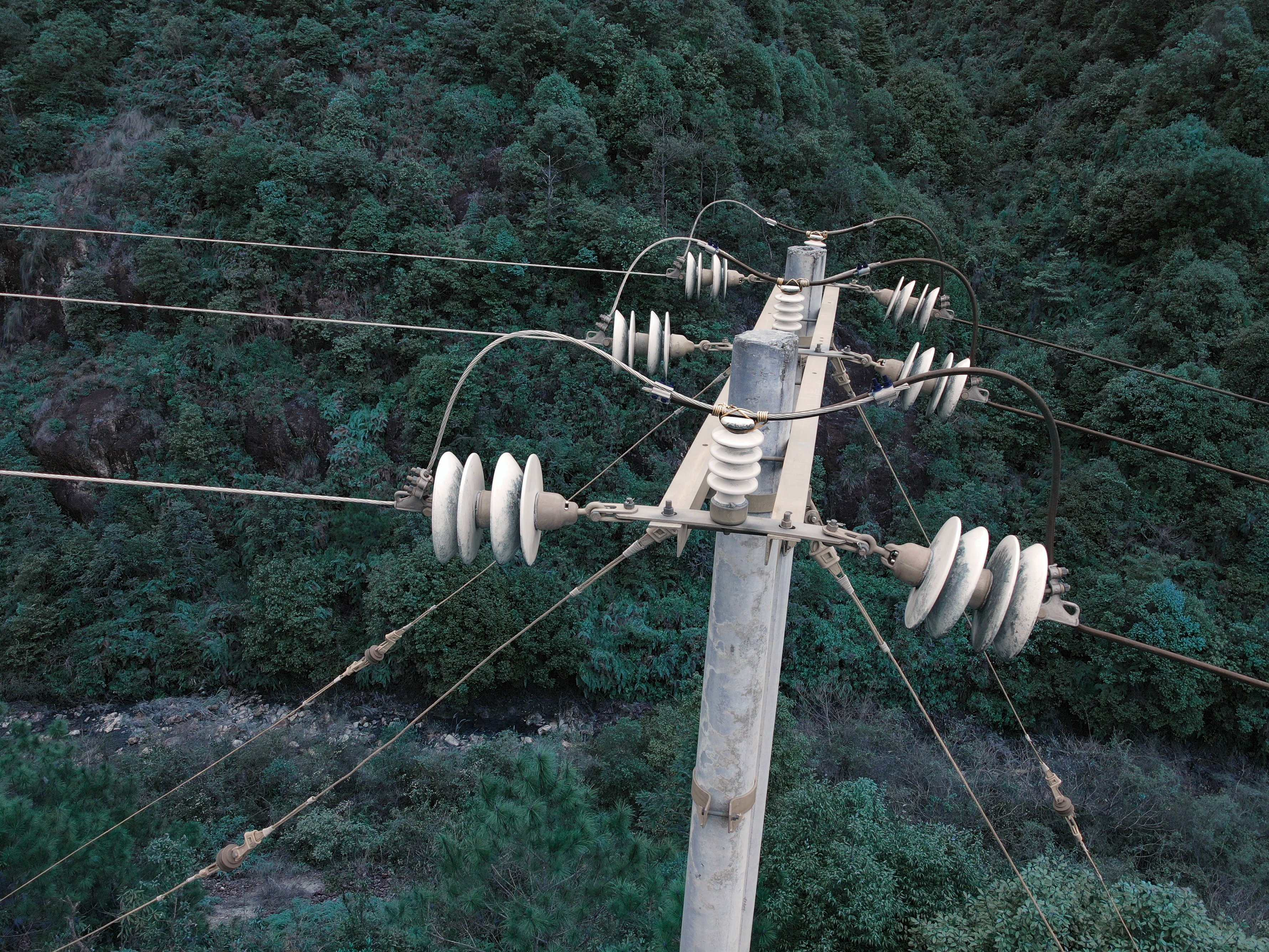severe_soiling_no_discharge_whole: (890, 511, 1055, 664), (418, 444, 580, 571), (879, 340, 971, 420), (605, 307, 698, 378), (873, 271, 941, 337), (683, 250, 744, 302)
